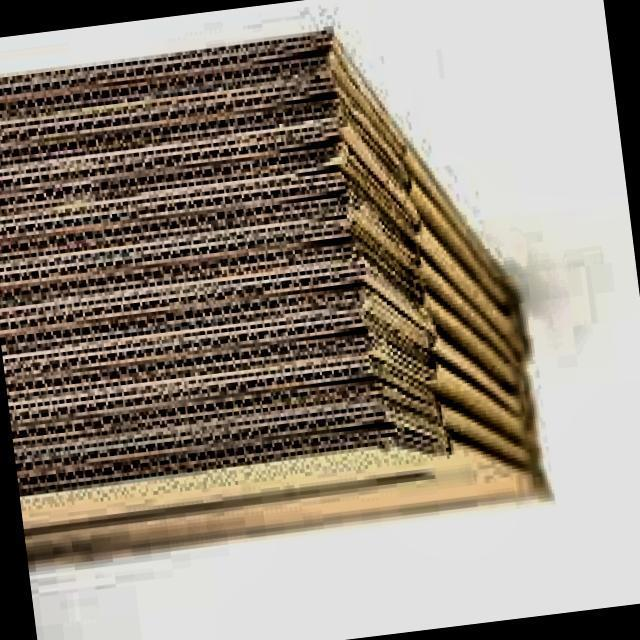cardboard: (0, 9, 553, 576)
